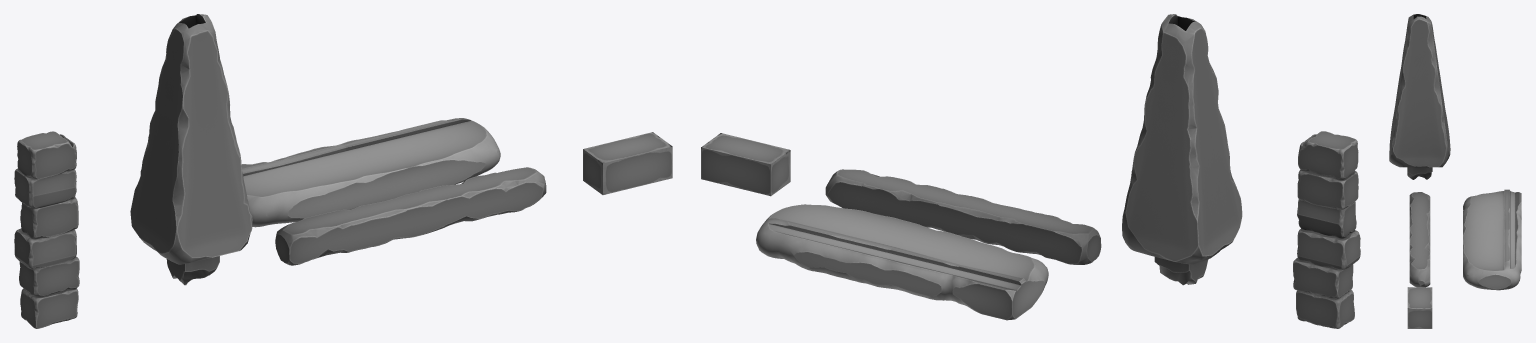
Rendered from MESH_PillarsNWedges.glb.
3 views of the same model, side by side, from view 1: azimuth 30°, elevation 25°; view 2: azimuth 150°, elevation 25°; view 3: azimuth 270°, elevation 25° (orthographic). The views are drawn at different scales.
Visible parts, largest first — view 1: MESH_Pillar1, MESH_Wedge1, MESH_Wedge2, MESH_Pillar2, MESH_Brick; view 2: MESH_Pillar1, MESH_Wedge1, MESH_Pillar2, MESH_Wedge2, MESH_Brick; view 3: MESH_Pillar1, MESH_Wedge1, MESH_Wedge2, MESH_Brick.
Boxes of the visible parts, x1,y1,x2,y2 form: MESH_Pillar1: (130,14,252,285); MESH_Wedge1: (241,118,500,227); MESH_Wedge2: (275,167,546,265); MESH_Pillar2: (14,131,79,328); MESH_Brick: (583,132,672,194); MESH_Pillar1: (1122,14,1242,285); MESH_Wedge1: (756,204,1048,320); MESH_Pillar2: (1293,131,1360,328); MESH_Wedge2: (825,169,1101,264); MESH_Brick: (701,133,790,196); MESH_Pillar1: (1389,14,1450,179); MESH_Wedge1: (1463,189,1521,290); MESH_Wedge2: (1409,192,1430,287); MESH_Brick: (1407,287,1432,328).
Size of the model in its own units: 22.67 by 9.07 by 6.41.
1 material, 1 textured.
